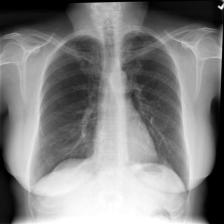normal: (25, 27, 196, 224)
